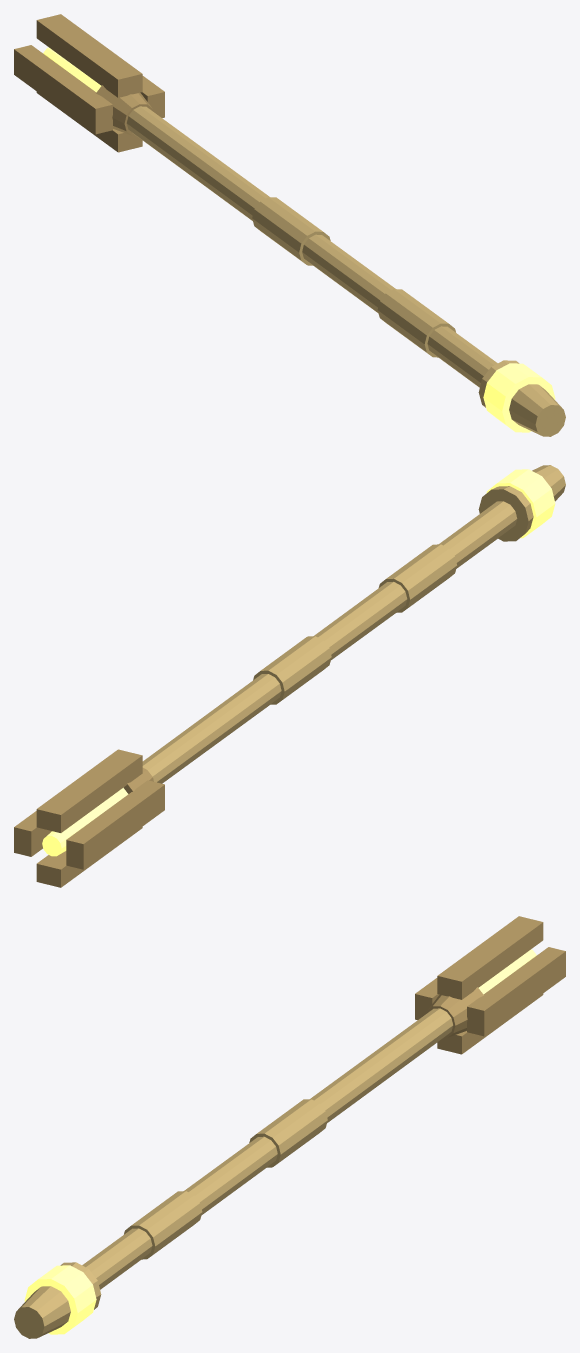
File: staff_weapon.glb
3 views of the same model, one above another, from view 1: azimuth 30°, elevation 25°; view 2: azimuth 150°, elevation 25°; view 3: azimuth 330°, elevation 25° (orthographic).
Visible parts, largest first — view 1: MaTok_Staff; view 2: MaTok_Staff; view 3: MaTok_Staff.
Part boxes in pixels (x1,y1,x2,y2): MaTok_Staff: [14, 14, 565, 436]; MaTok_Staff: [14, 465, 565, 887]; MaTok_Staff: [14, 916, 565, 1338].
Size of the model in its own units: 0.128 by 0.128 by 1.6.
